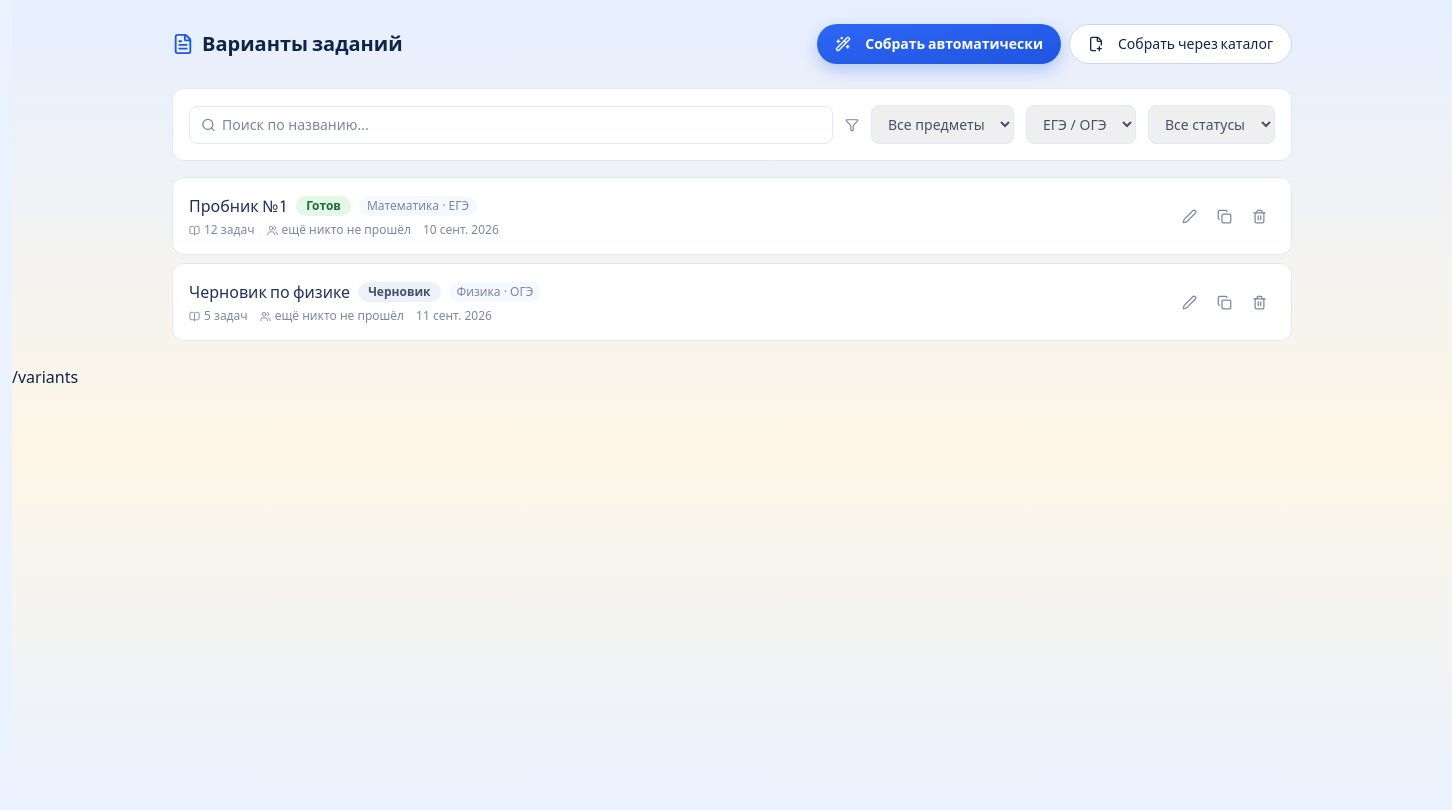
Test: VariantsListPage — строка как цель клика (§200) › клик по строке открывает вариант
Click the link with aria-label "Открыть вариант «Пробник №1»" at coordinates (732, 216), box [172, 177, 1292, 255]
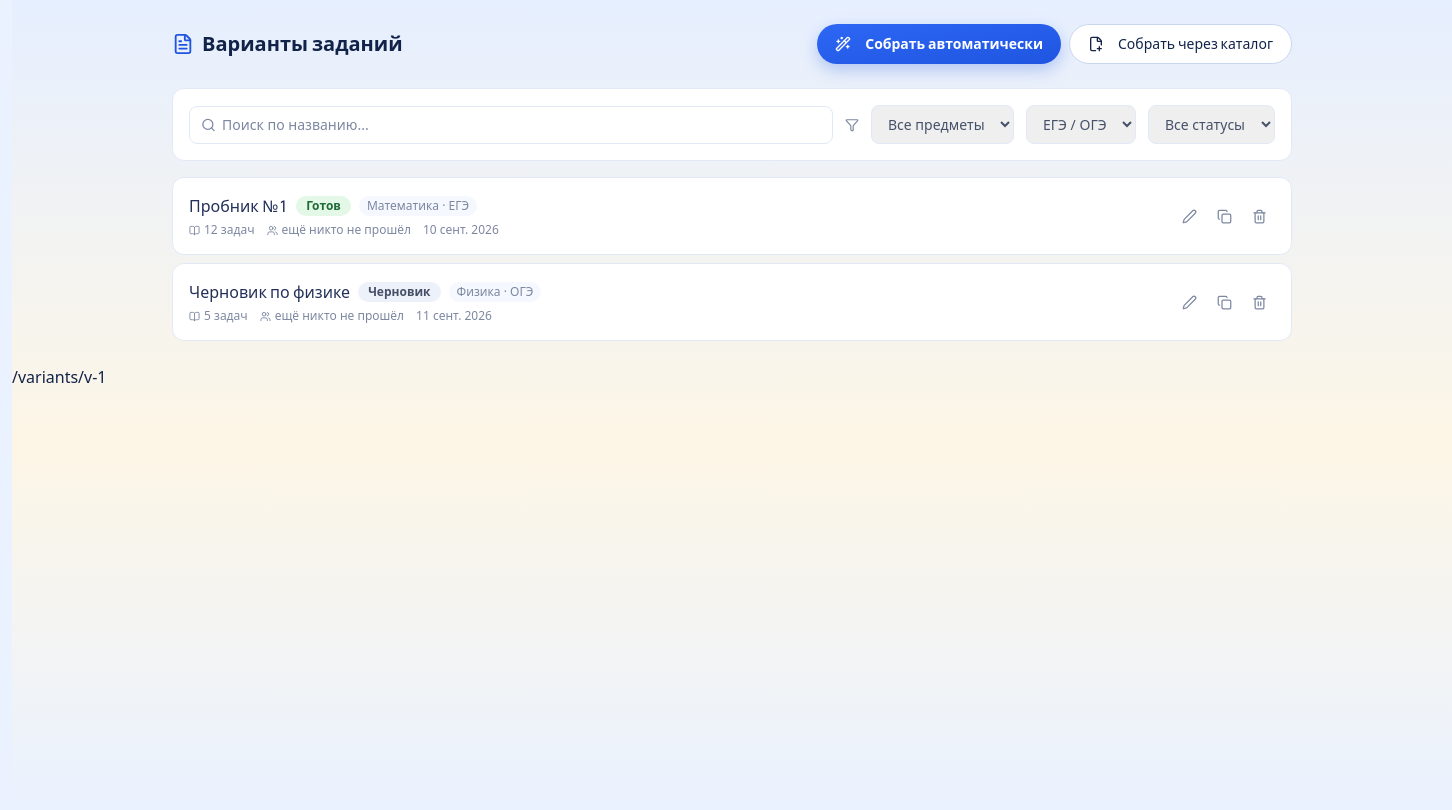
Expected: the text with test id "location" reads "/variants/v-1", [12, 366, 106, 388]
